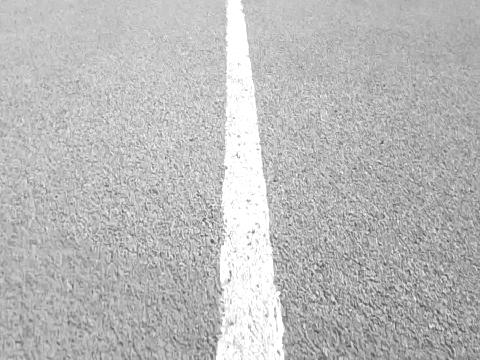Lines: (214, 0, 284, 360)
